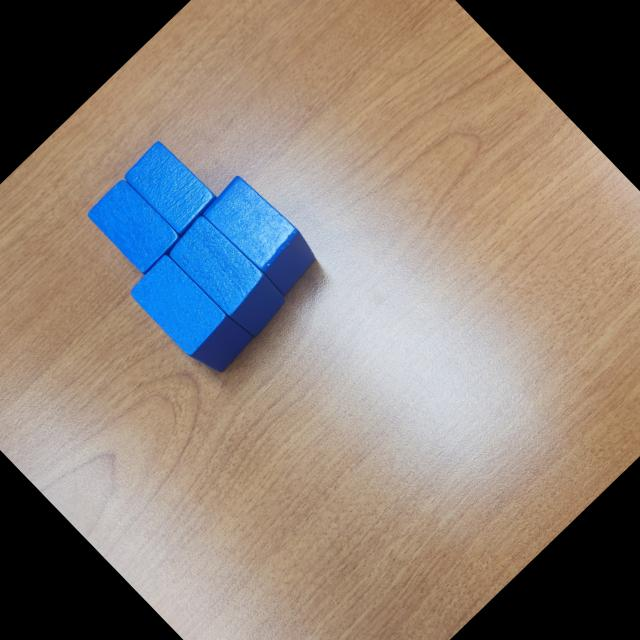blue: (125, 250, 256, 383), (162, 210, 292, 342), (200, 170, 325, 298), (84, 174, 185, 276), (121, 138, 220, 238)
